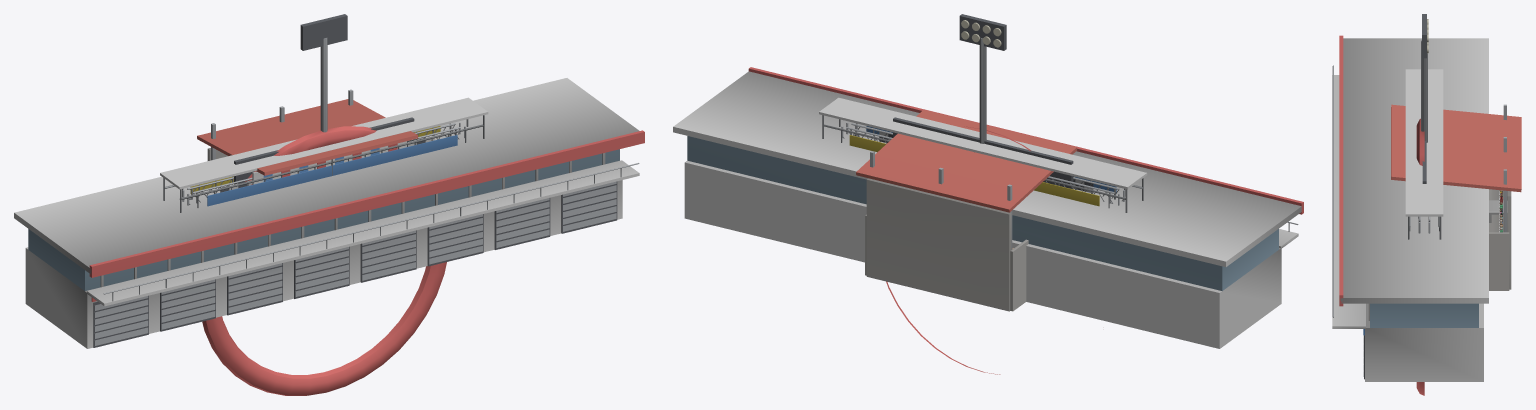
The model's file is props.glb.
The picture shows the model from 3 angles, left to right: view 1: azimuth 30°, elevation 25°; view 2: azimuth 150°, elevation 25°; view 3: azimuth 270°, elevation 25°; orthographic projection. The views are drawn at different scales.
Parts seen in each view (by area): view 1: pit_building, footbridge, inflatable_arch, grandstand, floodlight, start_gantry; view 2: pit_building, grandstand, footbridge, floodlight, start_gantry; view 3: pit_building, grandstand, footbridge, floodlight, inflatable_arch, team_truck.
Boxes of the visible parts, x1,y1,x2,y2 form: pit_building: [14, 78, 644, 348]; footbridge: [160, 97, 488, 212]; inflatable_arch: [202, 126, 446, 395]; grandstand: [197, 89, 417, 184]; floodlight: [300, 14, 347, 132]; start_gantry: [182, 122, 465, 205]; pit_building: [673, 67, 1303, 348]; grandstand: [856, 110, 1076, 311]; footbridge: [819, 97, 1147, 212]; floodlight: [959, 14, 1006, 143]; start_gantry: [841, 122, 1124, 205]; pit_building: [1332, 35, 1488, 381]; grandstand: [1391, 104, 1521, 290]; footbridge: [1405, 69, 1443, 239]; floodlight: [1421, 14, 1428, 142]; inflatable_arch: [1416, 118, 1424, 395]; team_truck: [1489, 200, 1507, 231].
Bounding box in the file's own units: 62 × 39.9 × 19.08.
